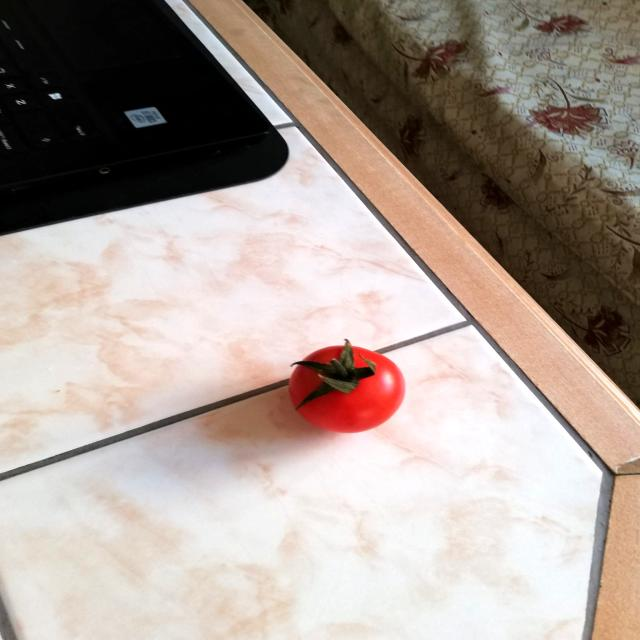tomato: (282, 332, 408, 436)
